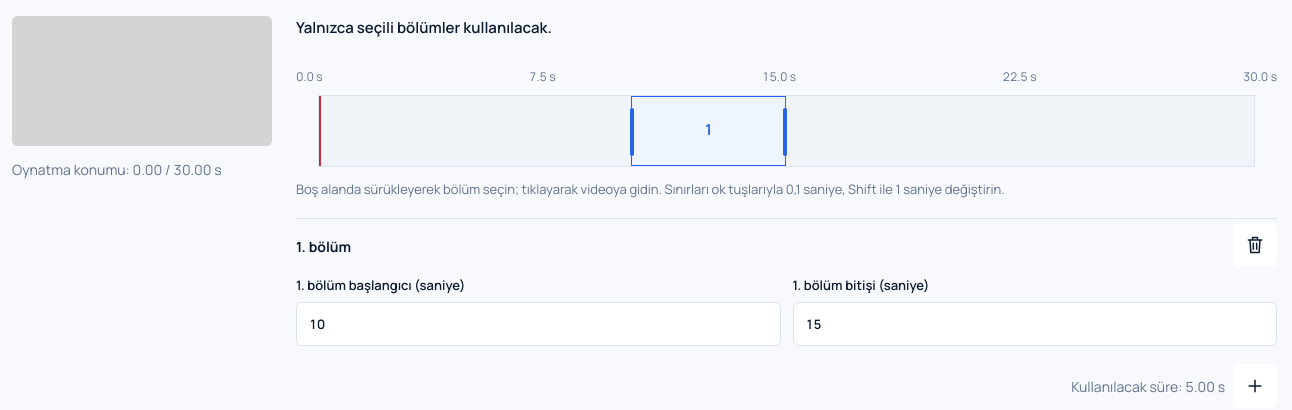
Scenario: last section removal returns whole-video mode and preserves usable focus
Click the button named "1. bölümü kaldır".
click(1255, 245)  # box [1233, 223, 1277, 267]
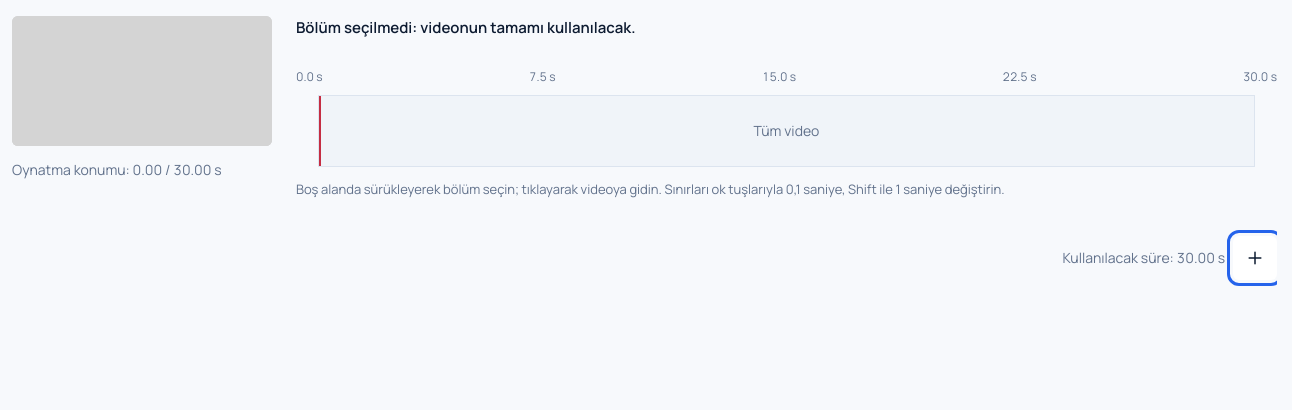
Now the text "Bölüm seçilmedi: videonun tamamı kullanılacak." is shown, box [296, 17, 635, 38]
